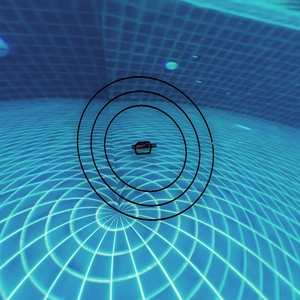circle: (69, 63, 226, 229)
